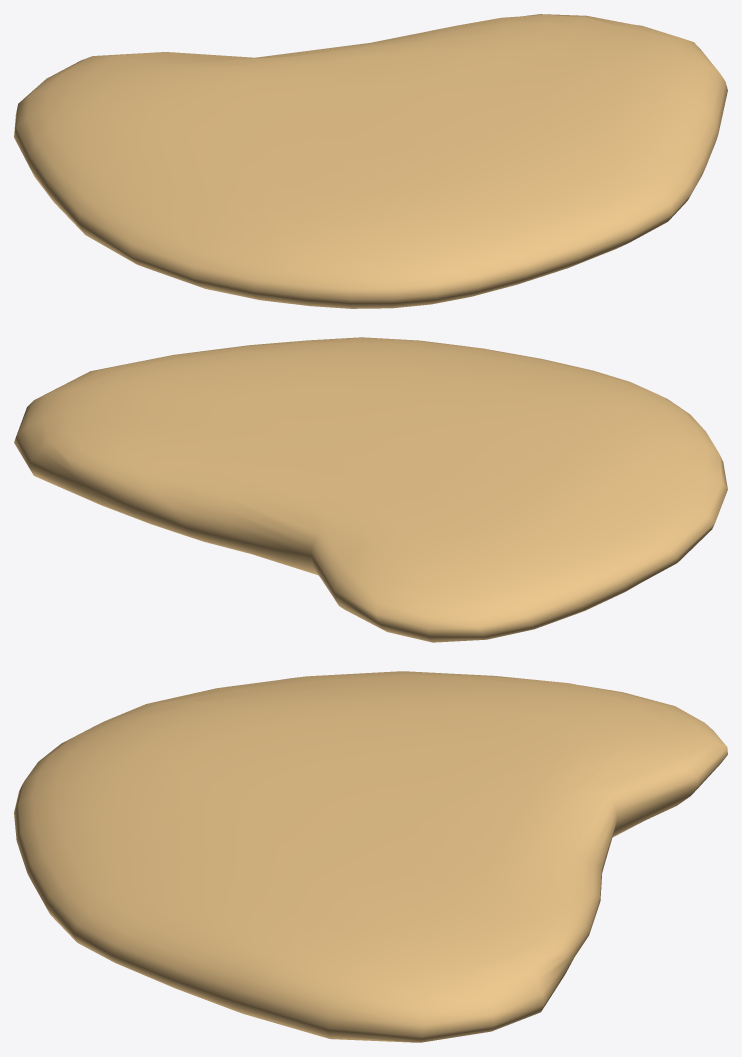
Rendered from island3.gltf.
3 views of the same model, one above another, from view 1: azimuth 30°, elevation 25°; view 2: azimuth 150°, elevation 25°; view 3: azimuth 270°, elevation 25° (orthographic). The views are drawn at different scales.
Visible parts, largest first — view 1: Island.003; view 2: Island.003; view 3: Island.003.
Boxes of the visible parts, bbox=[...] form: Island.003: bbox=[14, 14, 727, 308]; Island.003: bbox=[14, 337, 727, 642]; Island.003: bbox=[14, 671, 727, 1042].
Size of the model in its own units: 7.27 by 0.9441 by 6.19.
